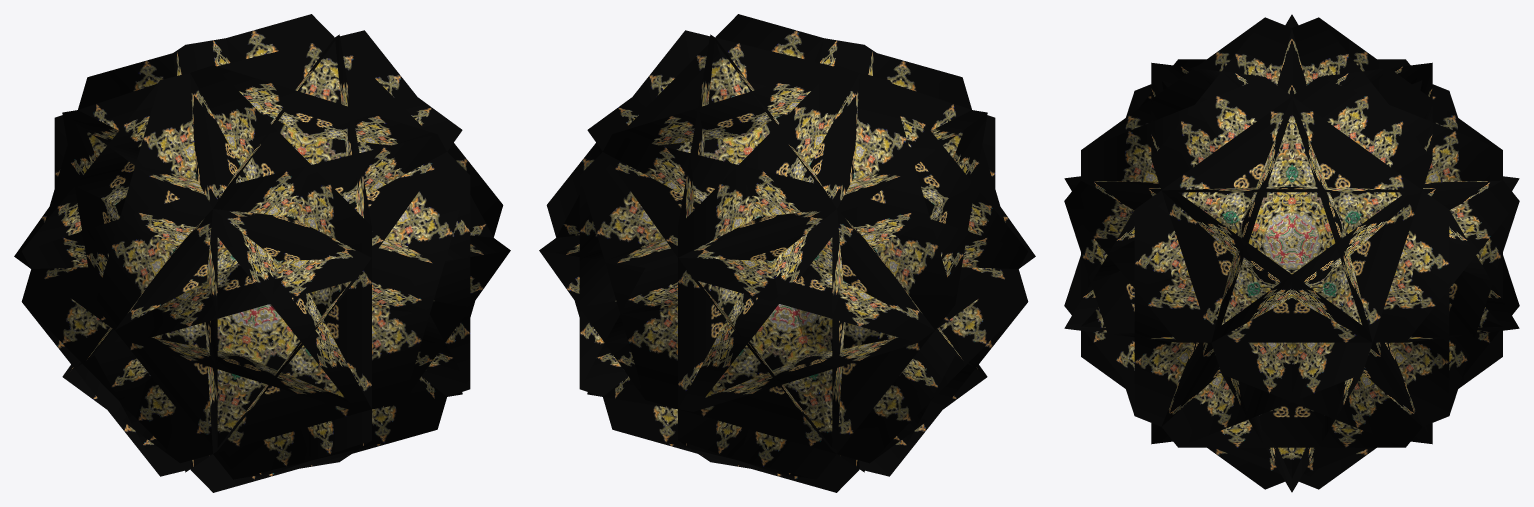
Rendered from TruncatedGreatIcosahedron5.gltf.
3 renders of one model, left to right at view 1: azimuth 30°, elevation 25°; view 2: azimuth 150°, elevation 25°; view 3: azimuth 270°, elevation 25°, orthographic. The views are drawn at different scales.
Visible parts, largest first — view 1: TruncatedGreatIcosahedron; view 2: TruncatedGreatIcosahedron; view 3: TruncatedGreatIcosahedron.
Boxes of the visible parts, x1,y1,x2,y2 form: TruncatedGreatIcosahedron: (14,14,510,492); TruncatedGreatIcosahedron: (539,14,1035,492); TruncatedGreatIcosahedron: (1064,14,1519,492).
Bounding box in the file's own units: 2 × 2 × 2.
1 material, 1 textured.
